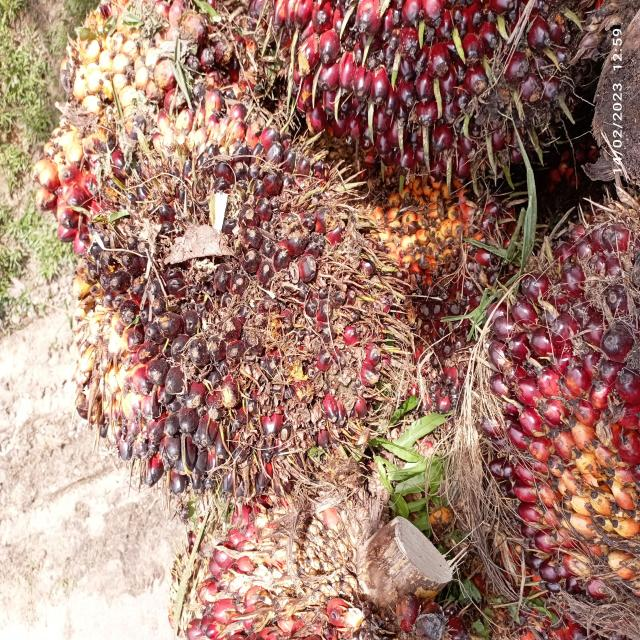fraksi 1: (53, 109, 432, 524), (431, 117, 639, 640)
